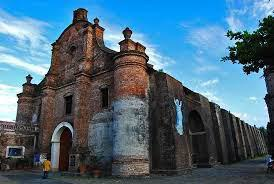santa_maria_church_santa_maria_ilocos_sur: (15, 5, 150, 184)
unfinished_paint: (86, 92, 152, 160)
